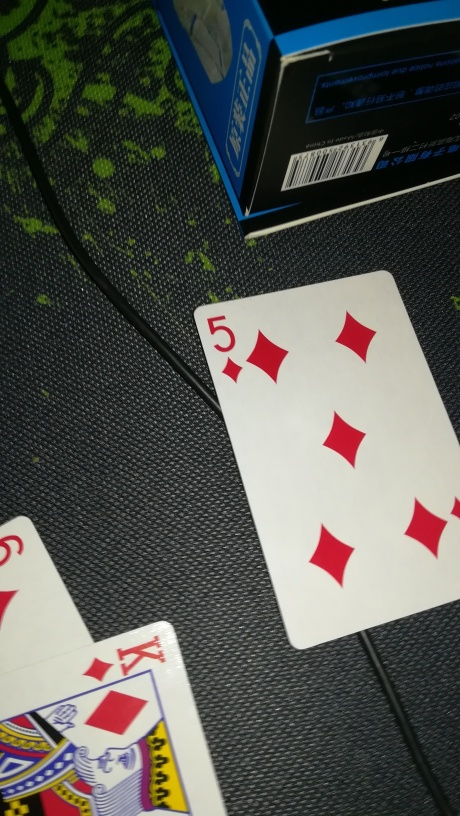fk 5: (194, 267, 460, 653)
